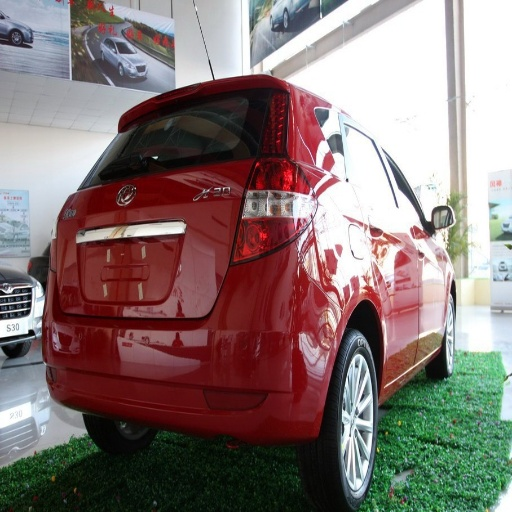back_bumper: (50, 241, 342, 443)
back_right_door: (355, 156, 417, 366)
tailgate: (105, 156, 253, 319)
trunk: (56, 177, 189, 363)
